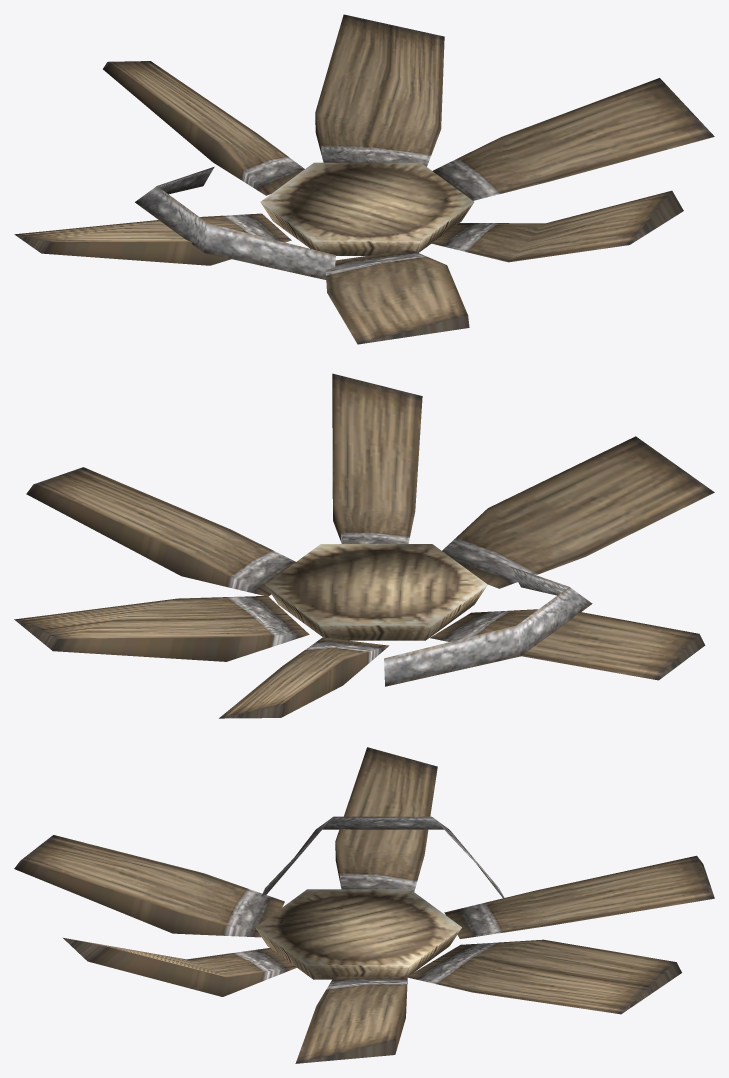
Rendered from brokenbarrel01.obj.
3 renders of one model, top to bottom at view 1: azimuth 30°, elevation 25°; view 2: azimuth 150°, elevation 25°; view 3: azimuth 270°, elevation 25°, orthographic. The views are drawn at different scales.
Parts seen in each view (by area): view 1: brokenbarrel01; view 2: brokenbarrel01; view 3: brokenbarrel01.
Boxes of the visible parts, <box> form: brokenbarrel01: <box>14,14,714,344</box>; brokenbarrel01: <box>14,373,714,718</box>; brokenbarrel01: <box>14,747,714,1063</box>.
Size of the model in its own units: 2.64 by 0.3366 by 2.6.
1 material, 1 textured.
